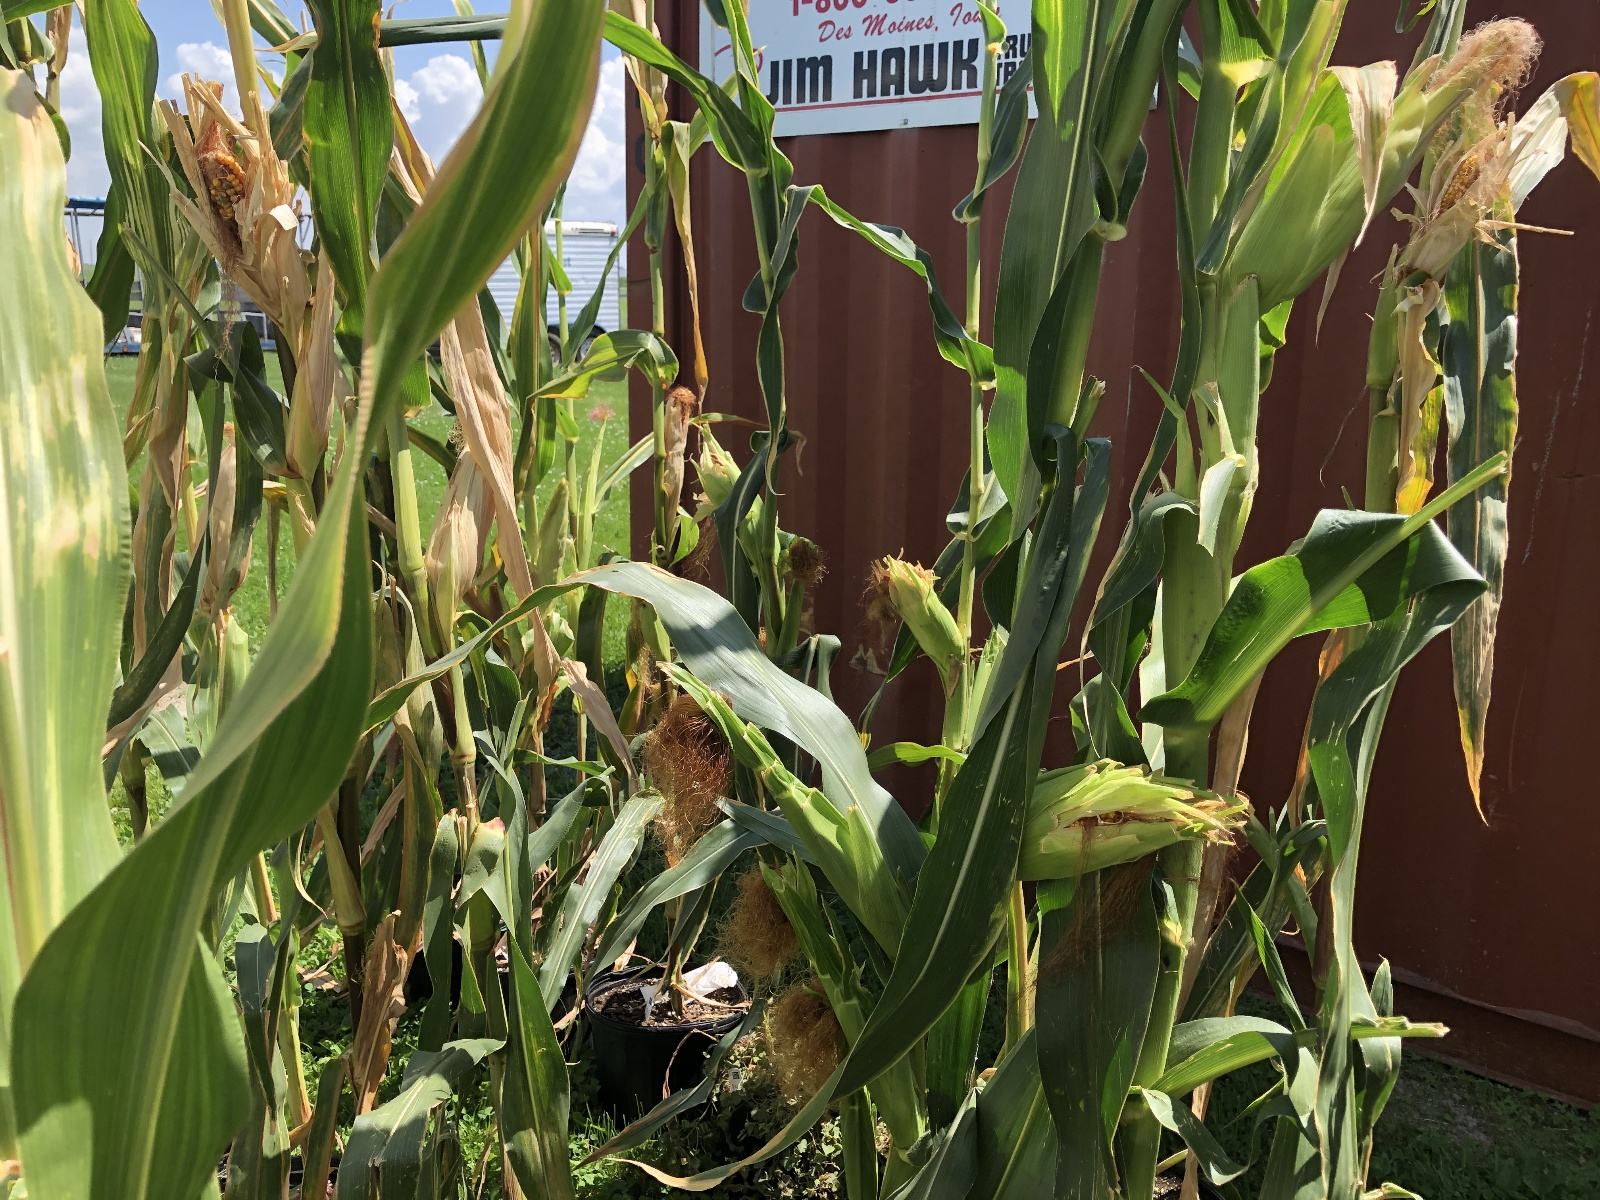ear: (1222, 29, 1540, 313), (185, 126, 307, 318), (1034, 771, 1242, 871), (422, 405, 520, 594), (1411, 118, 1527, 274), (864, 546, 968, 676), (659, 382, 698, 529), (534, 476, 574, 597)
